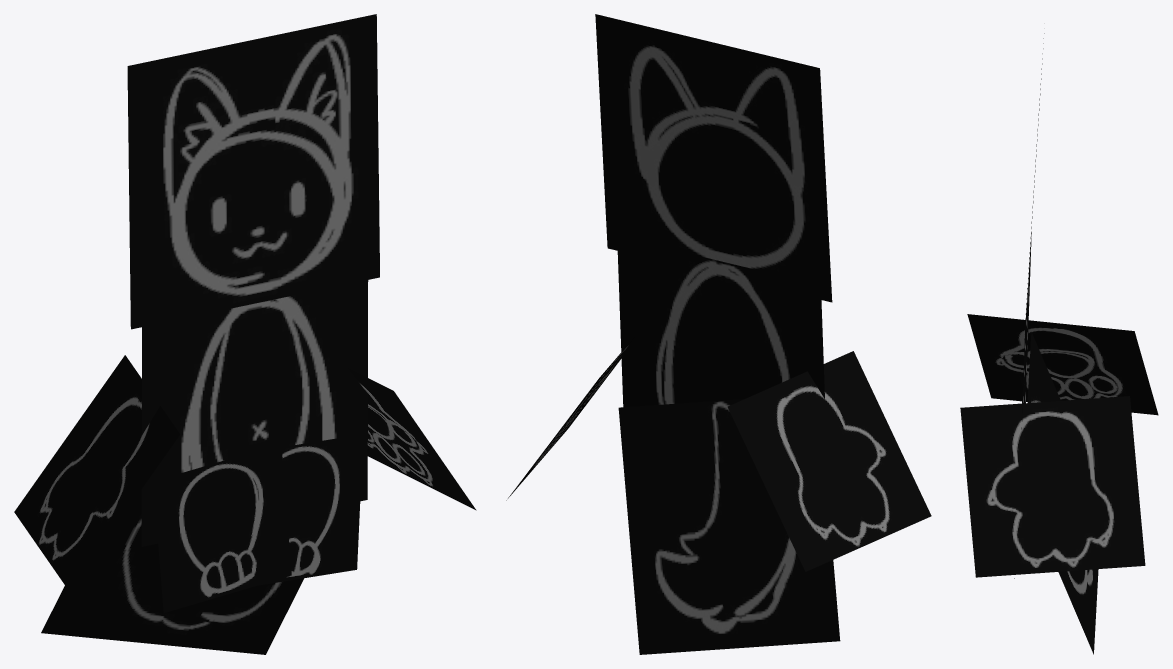
File: anim@RESO_Pera_idle.glb
3 renders of one model, left to right at view 1: azimuth 30°, elevation 25°; view 2: azimuth 150°, elevation 25°; view 3: azimuth 270°, elevation 25°, orthographic. The views are drawn at different scales.
Parts seen in each view (by area): view 1: Head_Front, Body_Front, RightFoot_Front, RightHand_Back, Tail_Front, LeftFoot_Front, LeftHand_Front; view 2: Head_Back, Tail_Back, Body_Back, RightHand_Back, LeftHand_Front; view 3: LeftHand_Back, RightHand_Front, Tail_Back, Body_Back.
Part boxes in pixels (<box>): Head_Front: <box>127,14,379,329</box>; Body_Front: <box>141,280,368,546</box>; RightFoot_Front: <box>153,444,291,612</box>; RightHand_Back: <box>14,355,180,591</box>; Tail_Front: <box>41,449,368,654</box>; LeftFoot_Front: <box>235,434,363,585</box>; LeftHand_Front: <box>348,368,476,510</box>; Head_Back: <box>595,14,832,302</box>; Tail_Back: <box>618,394,840,654</box>; Body_Back: <box>617,236,824,407</box>; RightHand_Back: <box>727,351,931,571</box>; LeftHand_Front: <box>506,334,636,500</box>; LeftHand_Back: <box>960,396,1145,577</box>; RightHand_Front: <box>967,314,1158,415</box>; Tail_Back: <box>1027,332,1098,654</box>; Body_Back: <box>1021,232,1031,429</box>.
Bounding box in the file's own units: 64.71 × 101 × 31.76.
1 material, 1 textured.
